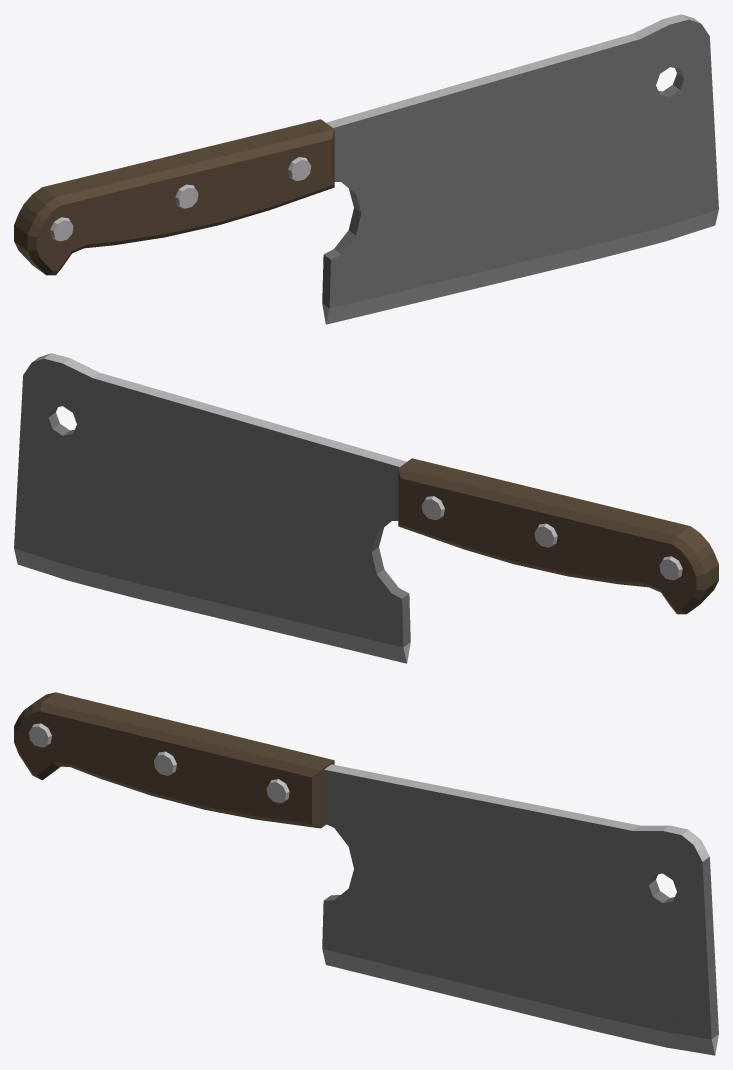
File: SM_ChoppingKnife_01.glb
The picture shows the model from 3 angles, top to bottom: view 1: azimuth 30°, elevation 25°; view 2: azimuth 150°, elevation 25°; view 3: azimuth 330°, elevation 25°; orthographic projection.
Visible parts, largest first — view 1: SM_ChoppingKnife_01; view 2: SM_ChoppingKnife_01; view 3: SM_ChoppingKnife_01.
Boxes of the visible parts, x1,y1,x2,y2 form: SM_ChoppingKnife_01: (14,14,718,324); SM_ChoppingKnife_01: (14,353,718,663); SM_ChoppingKnife_01: (14,692,718,1055).
Bounding box in the file's own units: 0.6538 × 0.1988 × 0.0409.
Materials: 1 (1 with a texture image).
